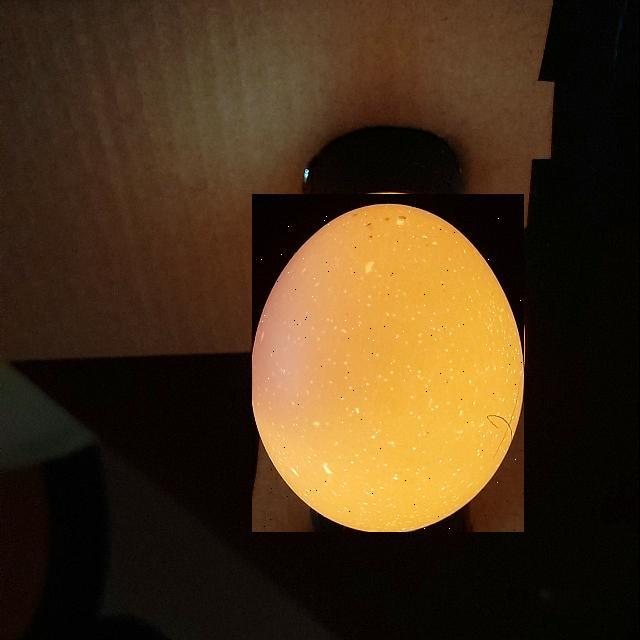AA - Premium: (252, 194, 524, 532)
